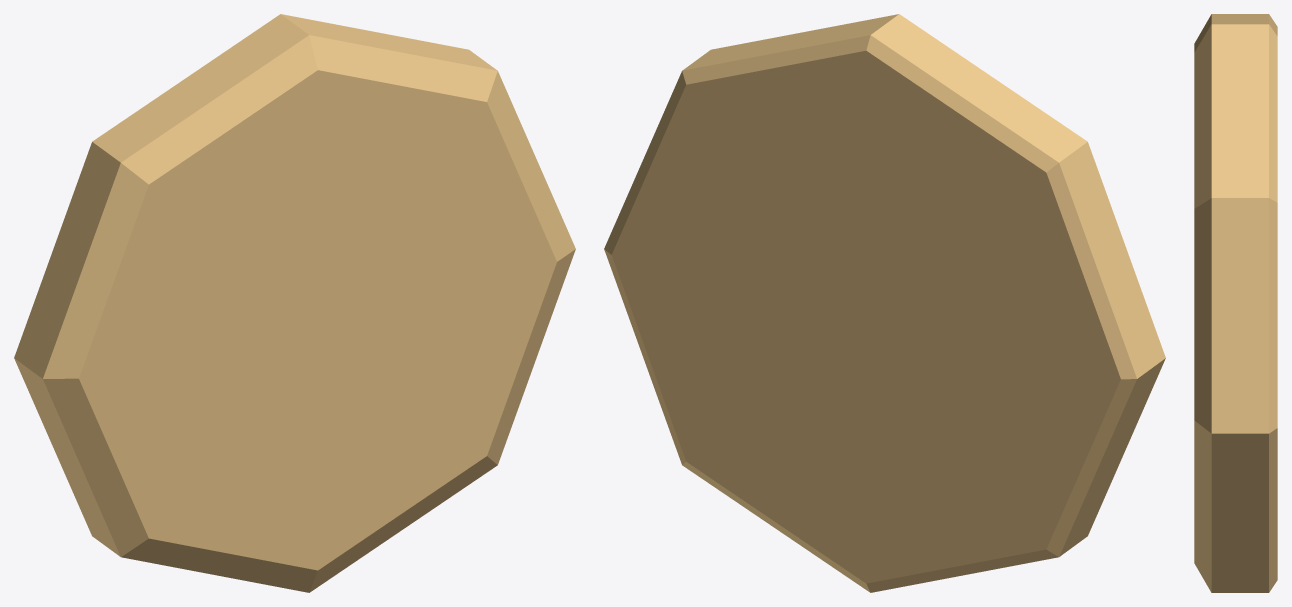
File: bottomBun.glb
3 views of the same model, side by side, from view 1: azimuth 30°, elevation 25°; view 2: azimuth 150°, elevation 25°; view 3: azimuth 270°, elevation 25° (orthographic).
Parts seen in each view (by area): view 1: buffer_0_mesh_0_prim3.008; view 2: buffer_0_mesh_0_prim3.008; view 3: buffer_0_mesh_0_prim3.008.
Boxes of the visible parts, x1=… form: buffer_0_mesh_0_prim3.008: x1=14, y1=14, x2=575, y2=592; buffer_0_mesh_0_prim3.008: x1=604, y1=14, x2=1165, y2=592; buffer_0_mesh_0_prim3.008: x1=1194, y1=14, x2=1277, y2=592.
Size of the model in its own units: 1.21 by 1.21 by 0.1639.
